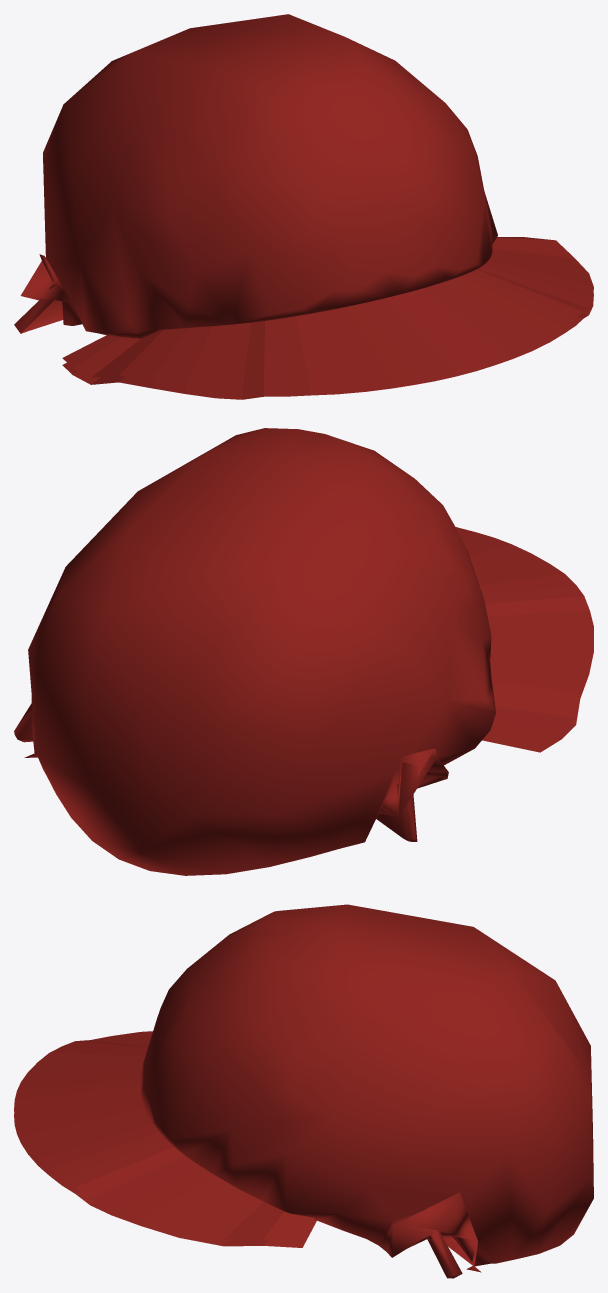
Rendered from accessory_cap_male.glb.
The picture shows the model from 3 angles, top to bottom: view 1: azimuth 30°, elevation 25°; view 2: azimuth 150°, elevation 25°; view 3: azimuth 270°, elevation 25°; orthographic projection. The views are drawn at different scales.
Parts seen in each view (by area): view 1: accessory_cap; view 2: accessory_cap; view 3: accessory_cap.
Part boxes in pixels (bbox=[...]): accessory_cap: bbox=[14, 14, 593, 399]; accessory_cap: bbox=[14, 428, 593, 875]; accessory_cap: bbox=[14, 904, 593, 1278].
Bounding box in the file's own units: 0.2825 × 0.1768 × 0.3175.
